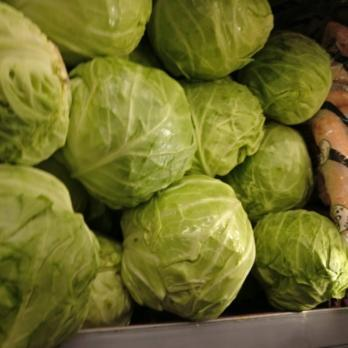Cabbage: (0, 0, 316, 312)
